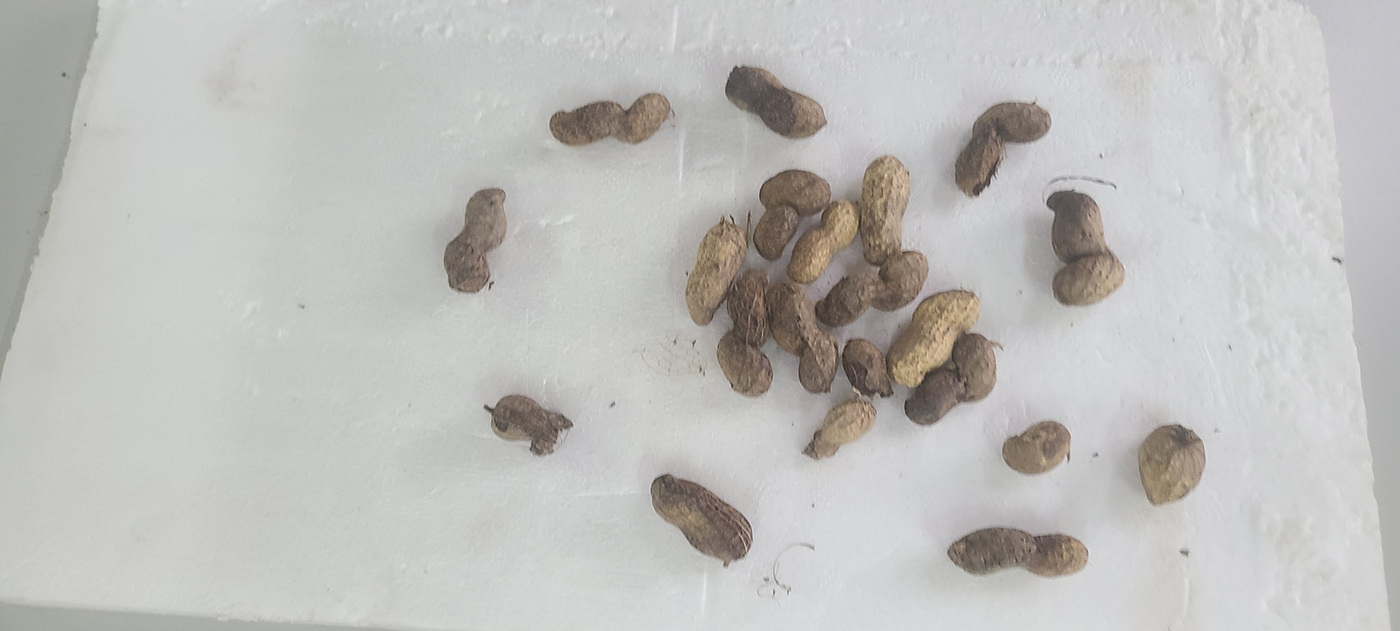l: (956, 100, 1051, 198), (651, 472, 755, 561), (887, 290, 980, 388), (1045, 193, 1125, 305), (904, 332, 998, 426), (815, 253, 930, 328), (766, 281, 838, 392), (948, 525, 1088, 578), (725, 65, 828, 137), (716, 270, 773, 398), (443, 187, 509, 293), (683, 222, 748, 326), (549, 92, 671, 146), (788, 200, 862, 282), (1136, 425, 1206, 506), (859, 155, 910, 266), (490, 395, 571, 455), (808, 398, 876, 460), (1002, 420, 1072, 474), (758, 169, 832, 214), (843, 340, 893, 400), (752, 205, 798, 261)
